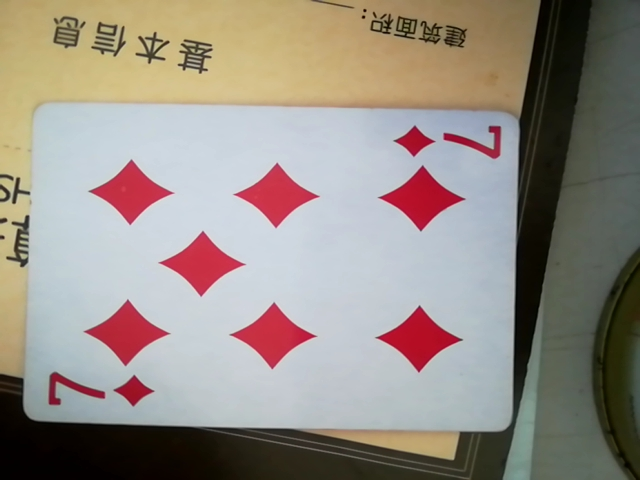fk 7: (3, 101, 526, 437)
